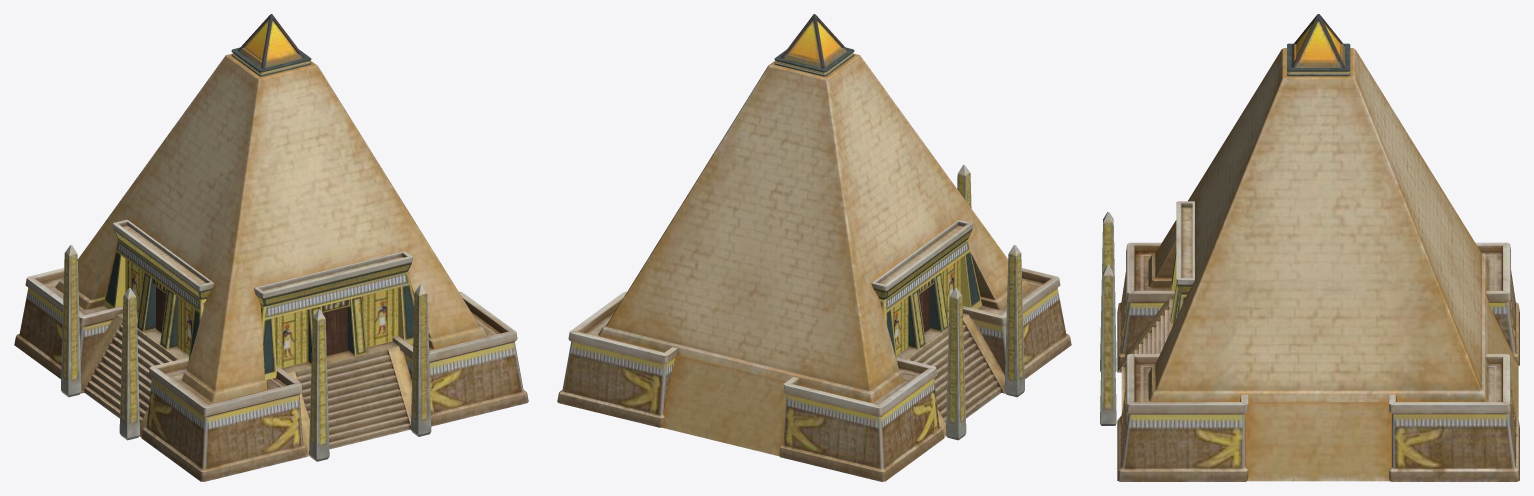
The model's file is 100-wonder-ra.glb.
3 renders of one model, left to right at view 1: azimuth 30°, elevation 25°; view 2: azimuth 150°, elevation 25°; view 3: azimuth 270°, elevation 25°, orthographic. The views are drawn at different scales.
Bounding box in the file's own units: 16.26 × 16.31 × 16.24.
Materials: 2 (2 with a texture image).
